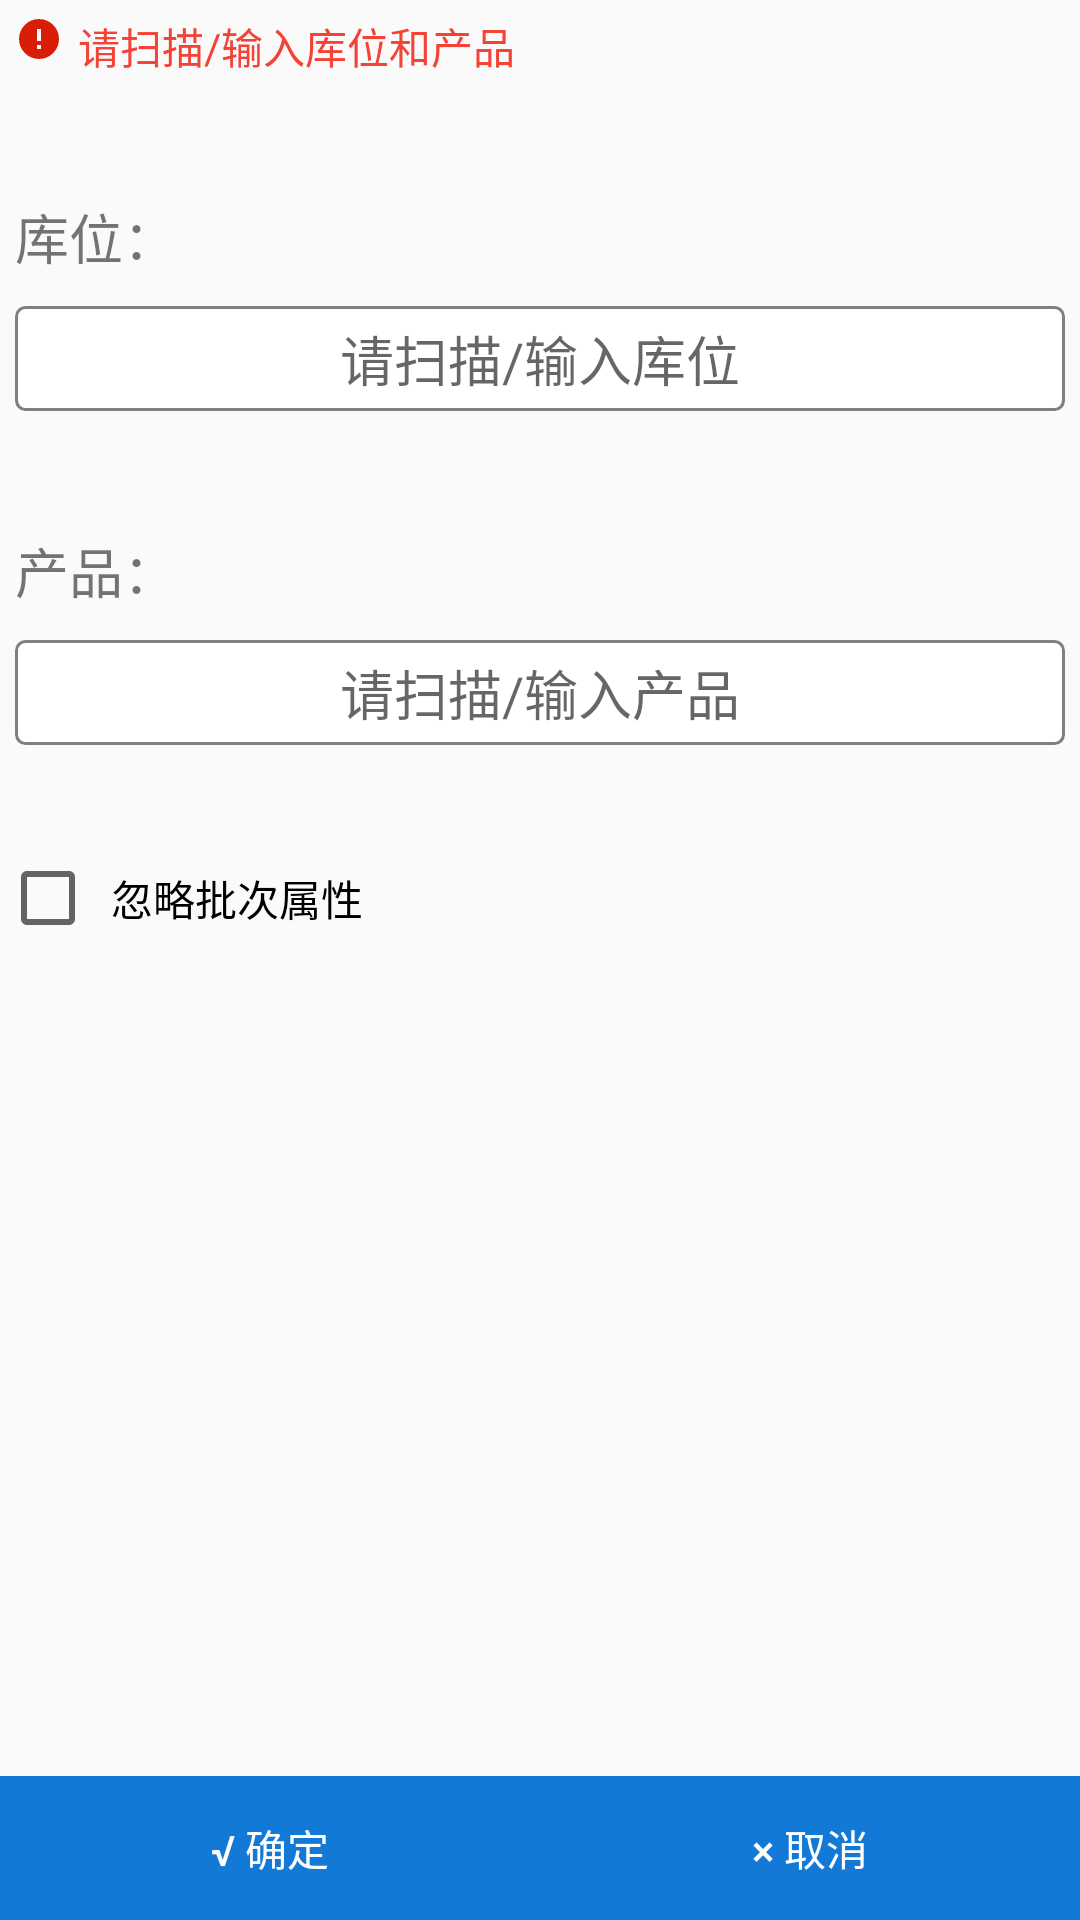

Point at icon controls on the screen. Image size 1080px x 1920px, points as (x,y).
error: (39,39)
